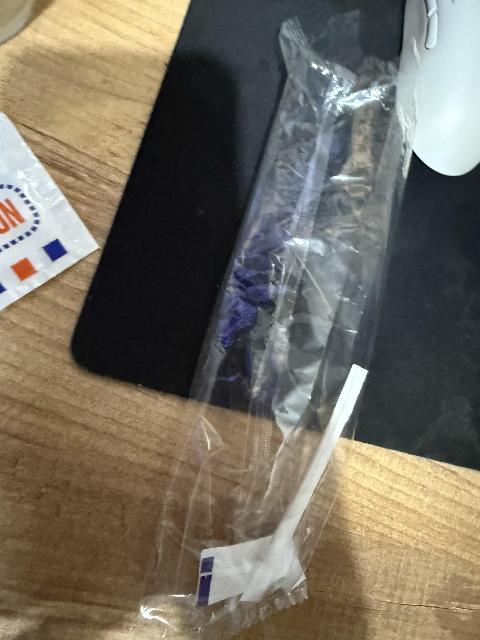Plastik: (154, 51, 419, 633), (0, 108, 98, 319)
